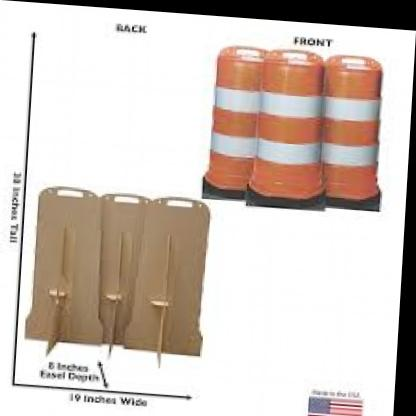obstacle: (252, 45, 339, 197), (321, 41, 387, 198), (208, 35, 258, 189)
